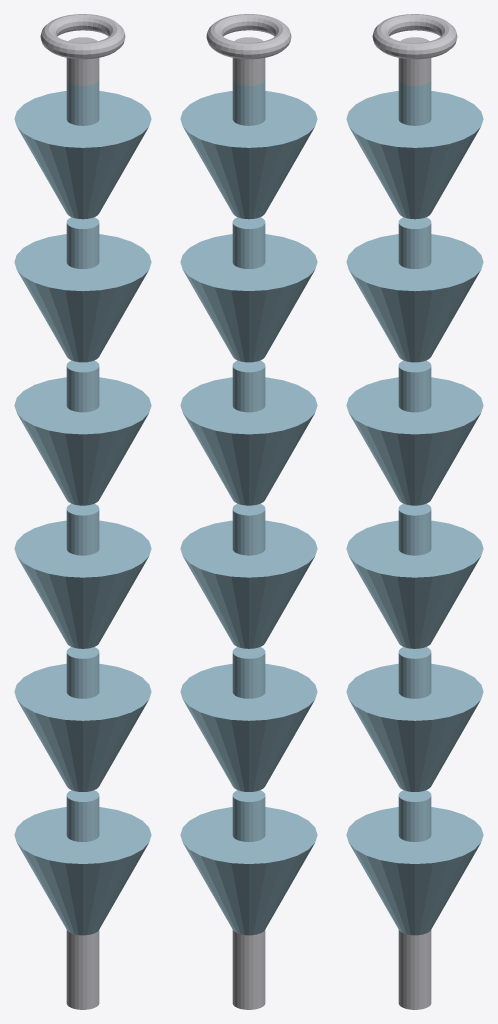
Rendered from Cadena_783mm.fbx.
3 renders of one model, left to right at view 1: azimuth 90°, elevation 25°; view 2: azimuth 150°, elevation 25°; view 3: azimuth 270°, elevation 25°, orthographic.
Parts seen in each view (by area): view 1: Cadena_783mm; view 2: Cadena_783mm; view 3: Cadena_783mm.
Part boxes in pixels (bbox=[...]): Cadena_783mm: bbox=[14, 14, 151, 1009]; Cadena_783mm: bbox=[180, 14, 317, 1009]; Cadena_783mm: bbox=[346, 14, 483, 1009].
Bounding box in the file's own units: 10 × 78.3 × 10.
